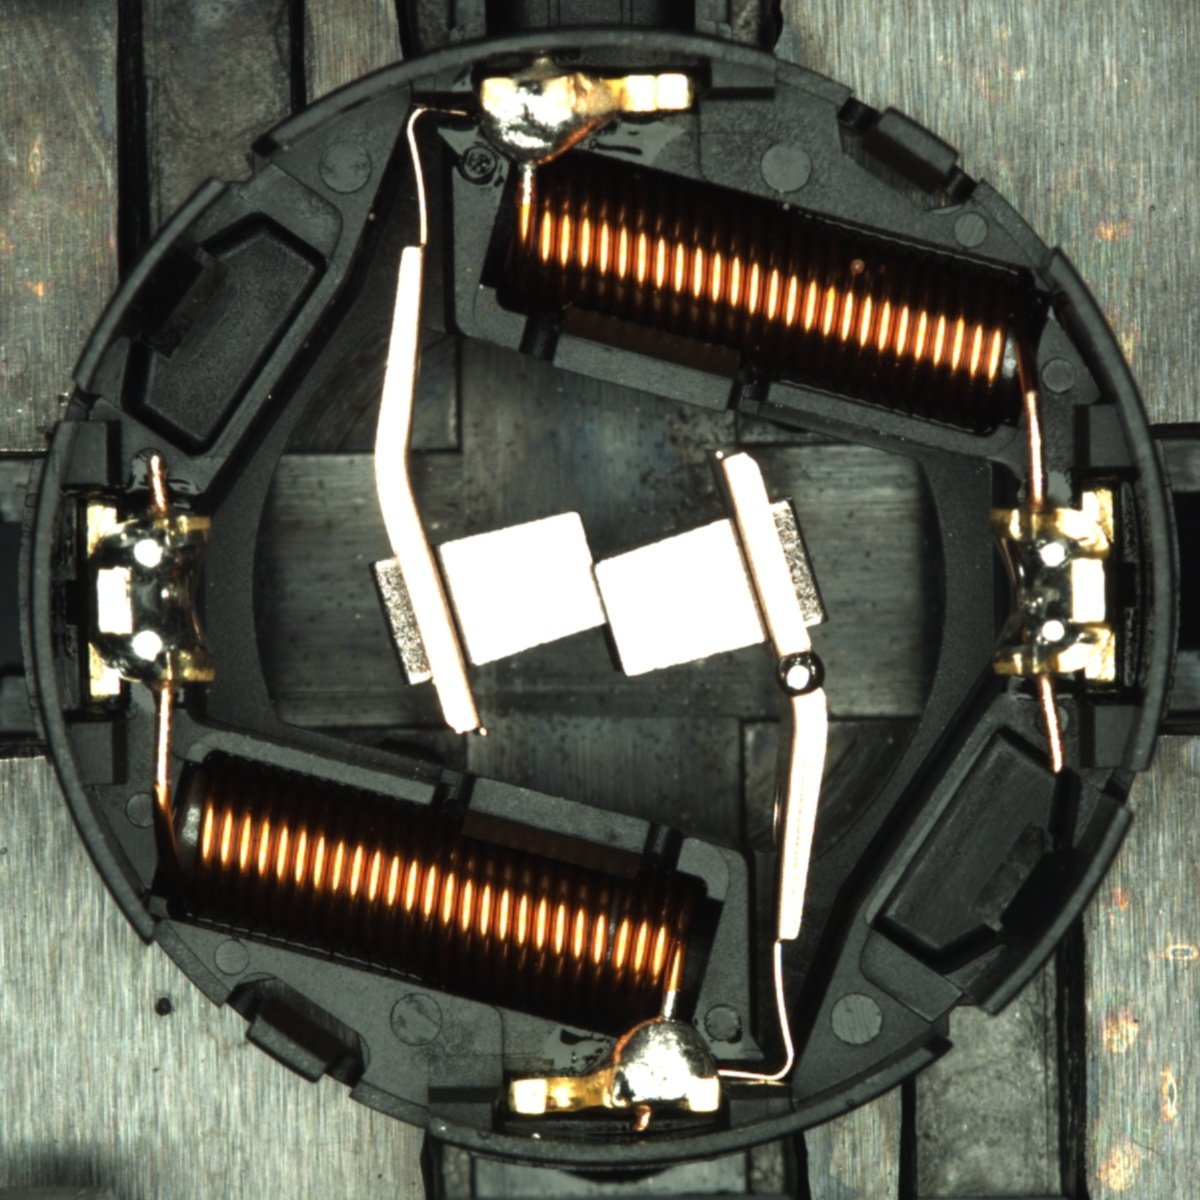1: (258, 55, 487, 279), (716, 953, 945, 1177)
2: (716, 55, 945, 279), (258, 953, 487, 1177)
3: (29, 279, 258, 503), (945, 729, 1175, 953)
4: (258, 279, 487, 503), (716, 729, 945, 953)
5: (487, 167, 716, 391), (487, 841, 716, 1065)
6: (716, 279, 945, 503), (258, 729, 487, 953)
7: (945, 279, 1175, 503), (29, 729, 258, 953)
chau_dien: (79, 497, 219, 700), (984, 490, 1121, 687)
hat_chi: (776, 648, 826, 700)
tay_choi: (478, 71, 696, 171), (508, 1015, 722, 1116)
thanh_de: (954, 788, 1141, 1032), (59, 166, 244, 405)
